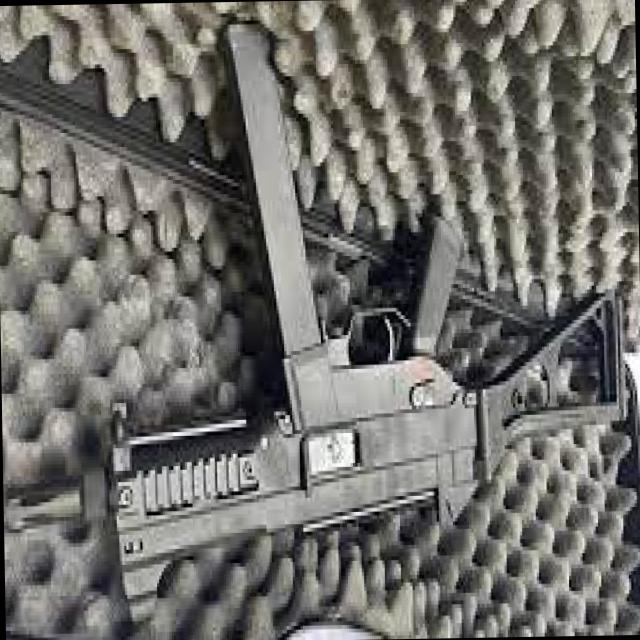Gun: (0, 0, 619, 581)
